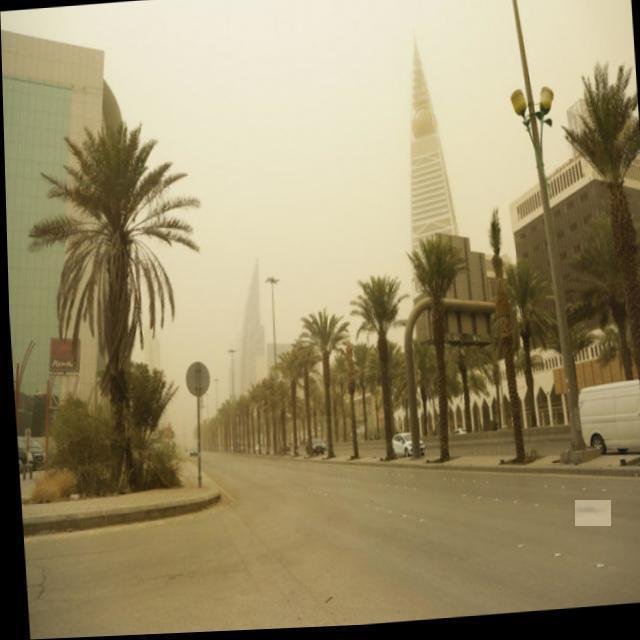Manhole: (575, 500, 611, 526)
